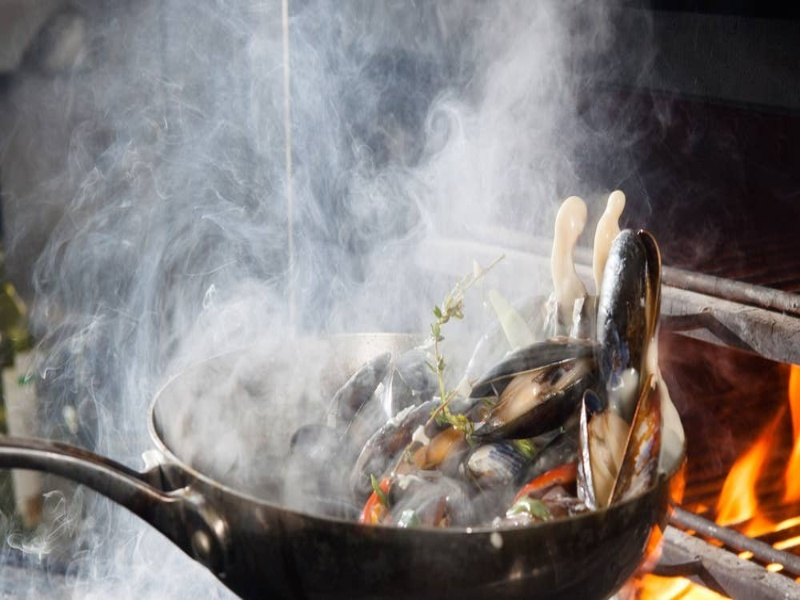smoke: (45, 1, 579, 418)
